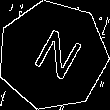N_SW: (23, 24, 83, 87)
